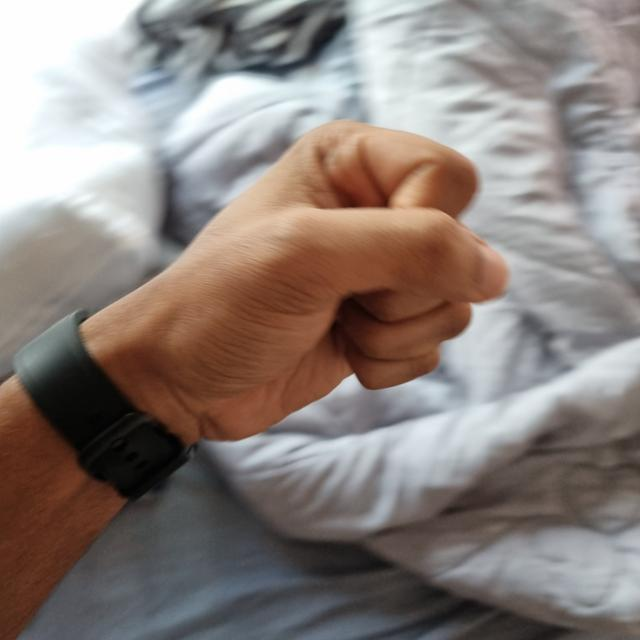Rock: (89, 121, 504, 440)
